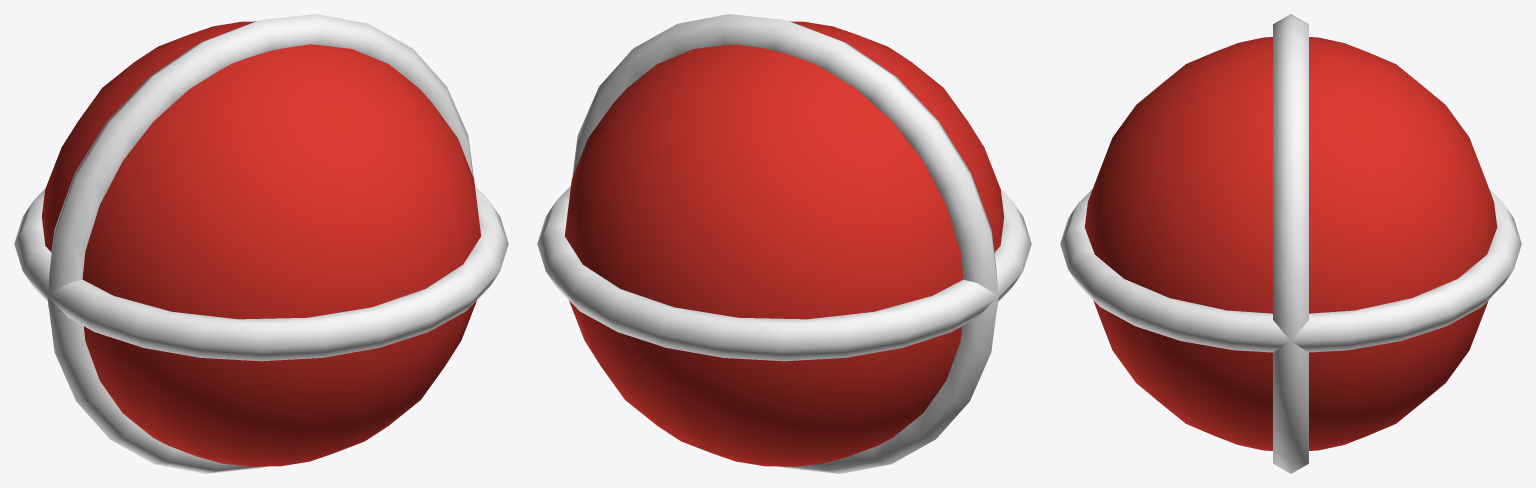
Rendered from ball.glb.
The picture shows the model from 3 angles, left to right: view 1: azimuth 30°, elevation 25°; view 2: azimuth 150°, elevation 25°; view 3: azimuth 270°, elevation 25°; orthographic projection. The views are drawn at different scales.
Visible parts, largest first — view 1: ballmesh; view 2: ballmesh; view 3: ballmesh.
Boxes of the visible parts, bbox=[...] form: ballmesh: bbox=[14, 14, 508, 473]; ballmesh: bbox=[537, 14, 1031, 473]; ballmesh: bbox=[1060, 14, 1521, 473].
Size of the model in its own units: 0.266 by 0.266 by 0.266.
